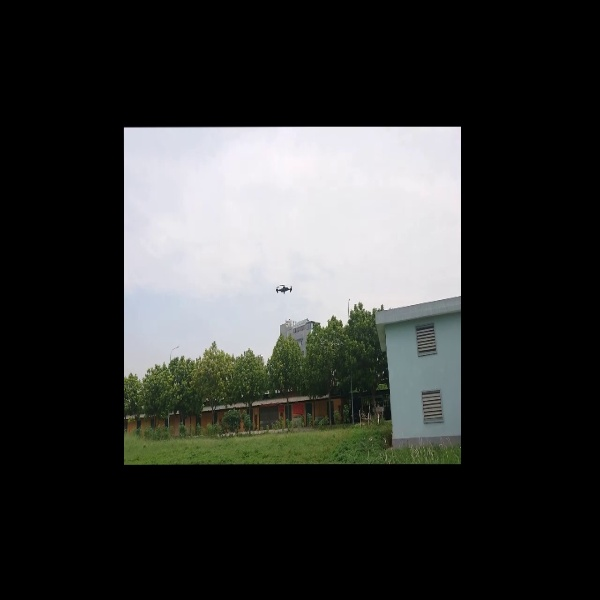drone: (266, 279, 300, 300)
